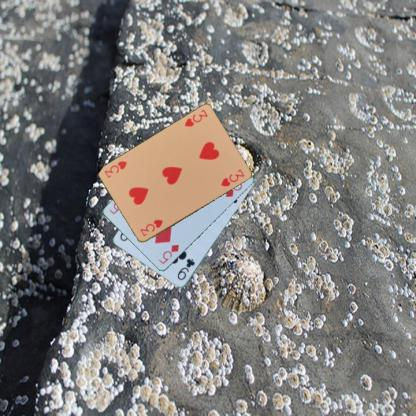3h: (182, 107, 209, 128), (138, 218, 164, 238)
5d: (156, 242, 180, 265)
9c: (174, 256, 196, 281)
